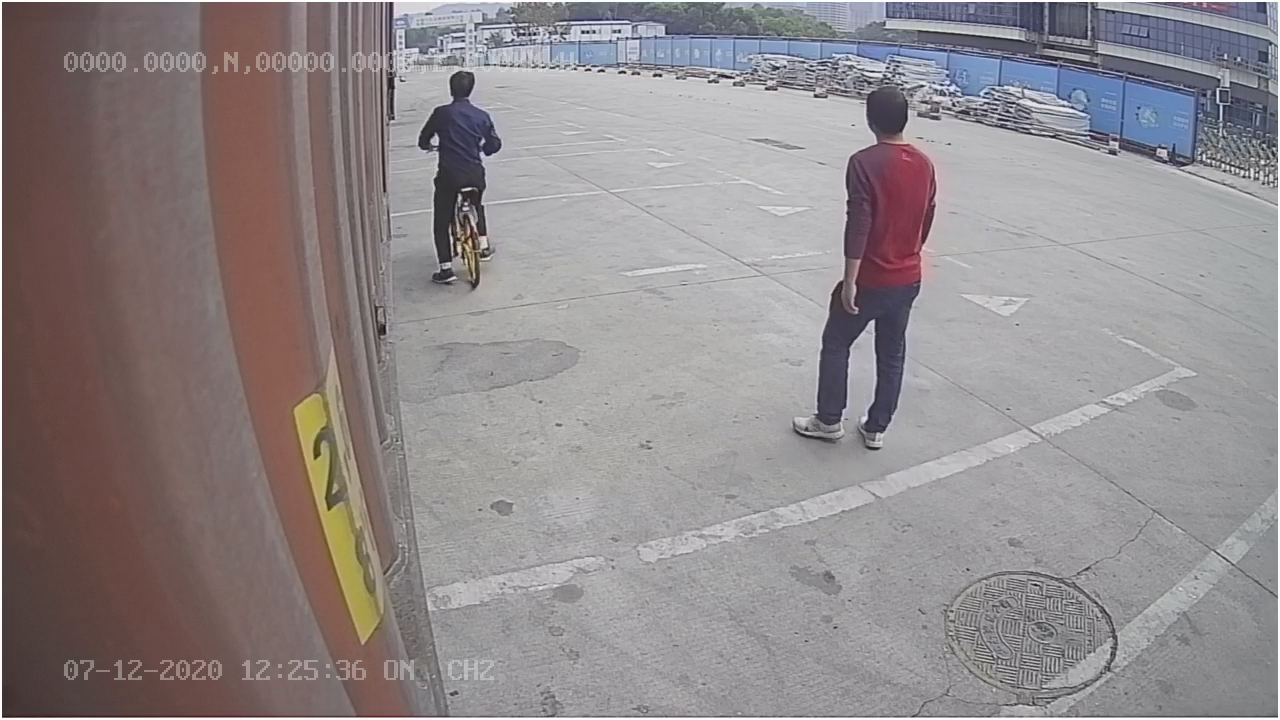person: (785, 82, 944, 454)
